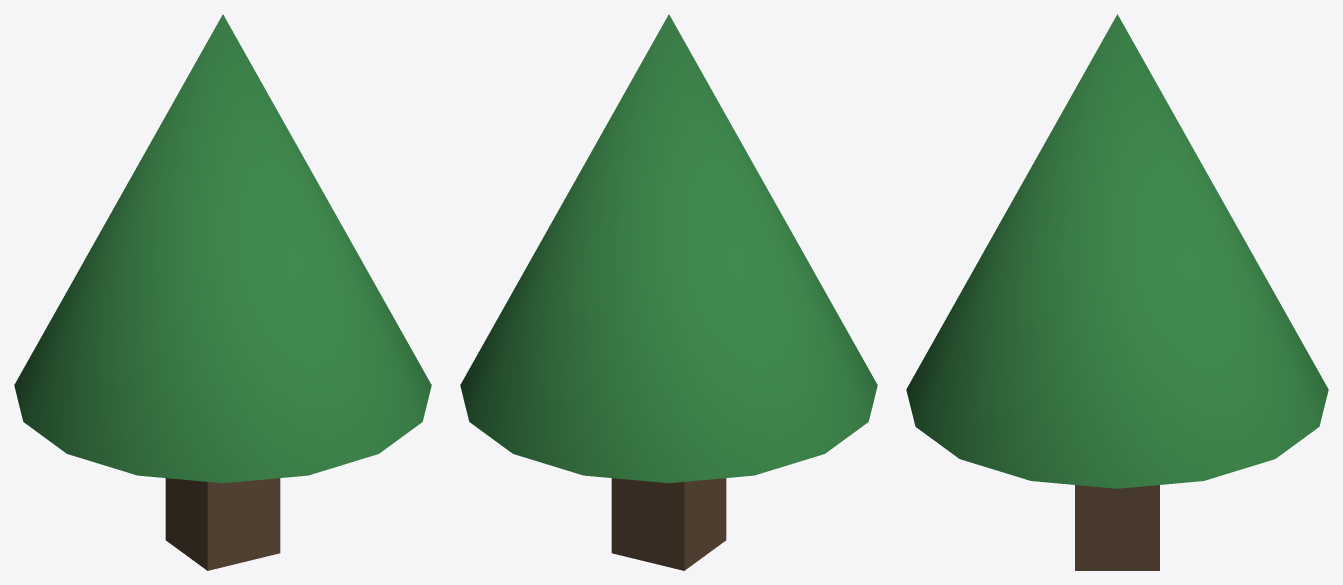
Rendered from Tree.fbx.
3 renders of one model, left to right at view 1: azimuth 30°, elevation 25°; view 2: azimuth 150°, elevation 25°; view 3: azimuth 270°, elevation 25°, orthographic.
Visible parts, largest first — view 1: Tree; view 2: Tree; view 3: Tree.
Boxes of the visible parts, box(x1,y1,x2,y2) form: Tree: box(14, 14, 431, 570); Tree: box(460, 14, 877, 570); Tree: box(906, 14, 1328, 570).
Size of the model in its own units: 4.95 by 7 by 4.97.
